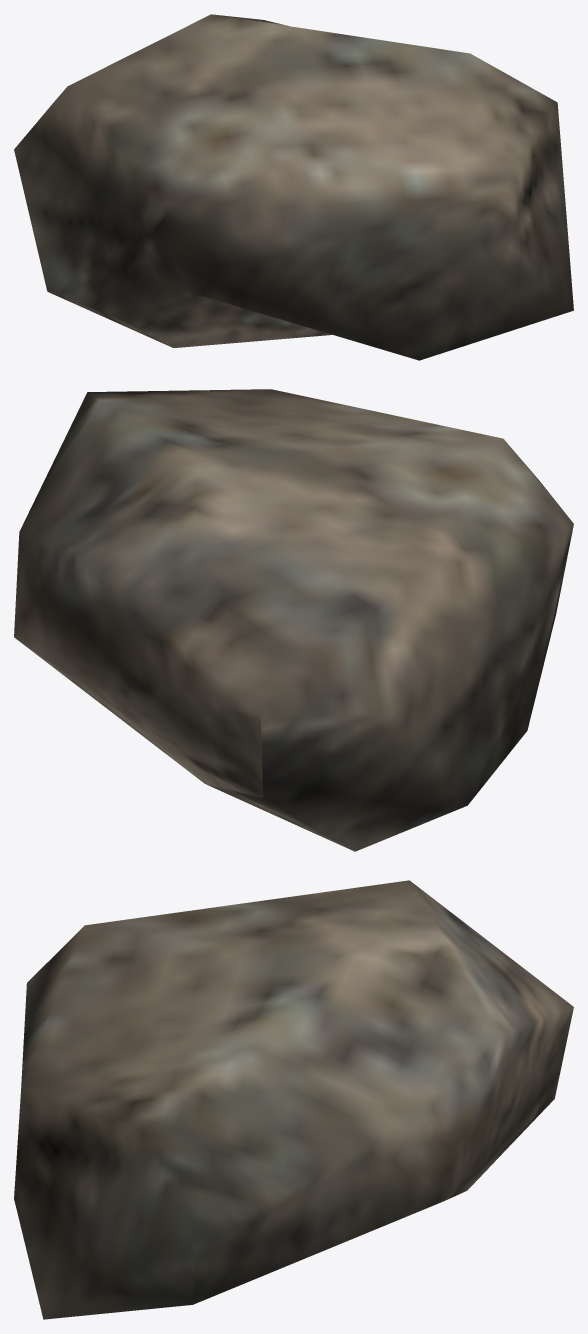
File: Rock6c.FBX
The picture shows the model from 3 angles, top to bottom: view 1: azimuth 30°, elevation 25°; view 2: azimuth 150°, elevation 25°; view 3: azimuth 270°, elevation 25°; orthographic projection. The views are drawn at different scales.
Visible parts, largest first — view 1: Rock6c; view 2: Rock6c; view 3: Rock6c.
Boxes of the visible parts, x1,y1,x2,y2 form: Rock6c: (14,14,573,360); Rock6c: (14,389,573,851); Rock6c: (14,880,573,1319).
Size of the model in its own units: 2.23 by 1.31 by 2.14.
